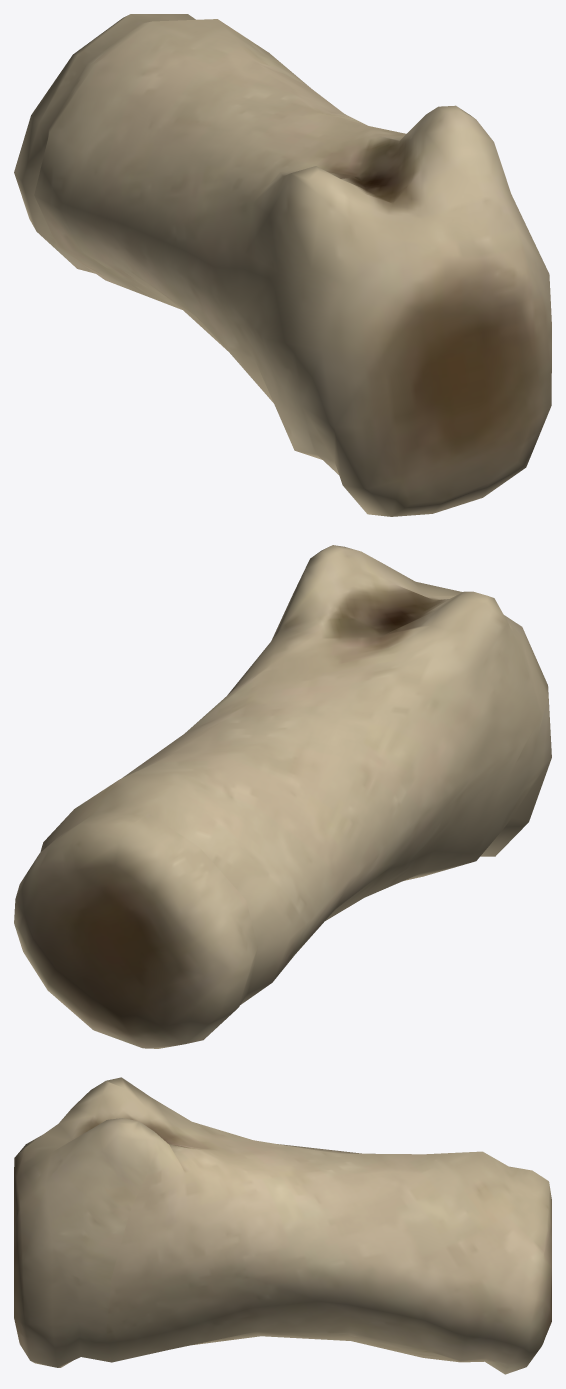
Rendered from Caudal_Vertebrae7.glb.
3 renders of one model, top to bottom at view 1: azimuth 30°, elevation 25°; view 2: azimuth 150°, elevation 25°; view 3: azimuth 270°, elevation 25°, orthographic. The views are drawn at different scales.
Visible parts, largest first — view 1: Caudal_Vertebrae_26:Group61199; view 2: Caudal_Vertebrae_26:Group61199; view 3: Caudal_Vertebrae_26:Group61199.
Part boxes in pixels (box(x1,y1,x2,y2)): Caudal_Vertebrae_26:Group61199: box(14, 14, 551, 516); Caudal_Vertebrae_26:Group61199: box(14, 545, 551, 1048); Caudal_Vertebrae_26:Group61199: box(14, 1077, 551, 1374).
Bounding box in the file's own units: 8.83 × 9.97 × 18.75.
1 material, 1 textured.
